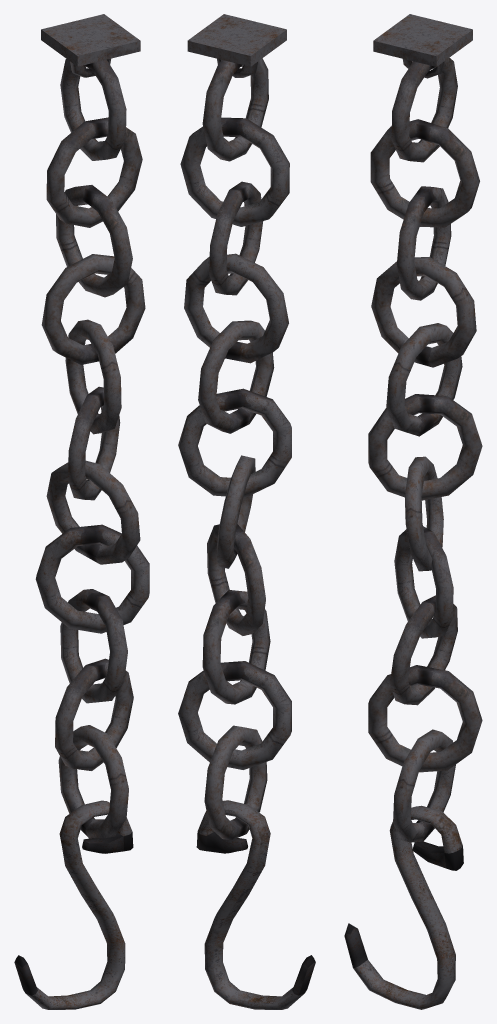
File: Castle Wall Ring Chain 13.fbx
3 renders of one model, left to right at view 1: azimuth 30°, elevation 25°; view 2: azimuth 150°, elevation 25°; view 3: azimuth 330°, elevation 25°, orthographic.
Parts seen in each view (by area): view 1: Cube; view 2: Cube; view 3: Cube.
Boxes of the visible parts, x1,y1,x2,y2 form: Cube: [14, 14, 149, 1009]; Cube: [178, 14, 315, 1009]; Cube: [344, 14, 482, 1009].
Size of the model in its own units: 49.74 by 360 by 39.17.
